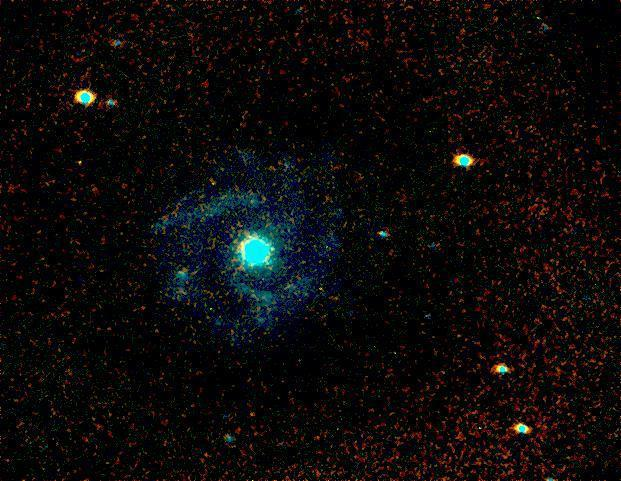star: (256, 232, 286, 262)
